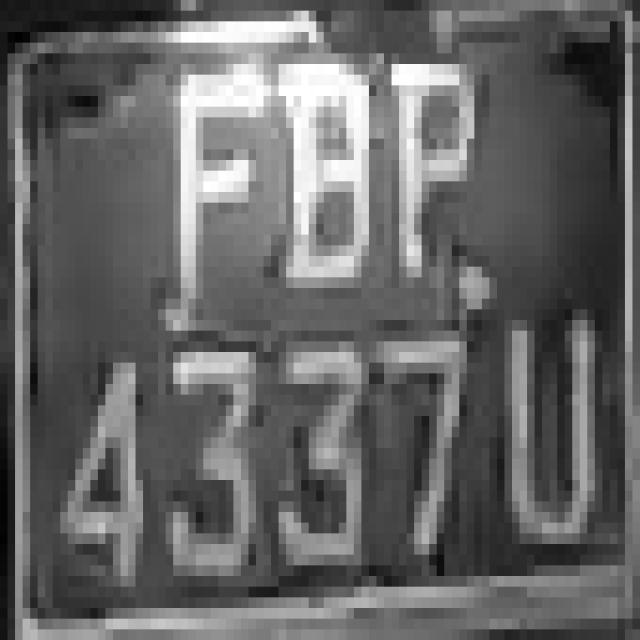3: (136, 299, 264, 597), (271, 299, 377, 565)
4: (45, 320, 166, 608)
7: (354, 331, 489, 608)
B: (264, 53, 392, 299)
F: (150, 21, 278, 320)
P: (384, 42, 497, 298)
U: (504, 288, 602, 576)
